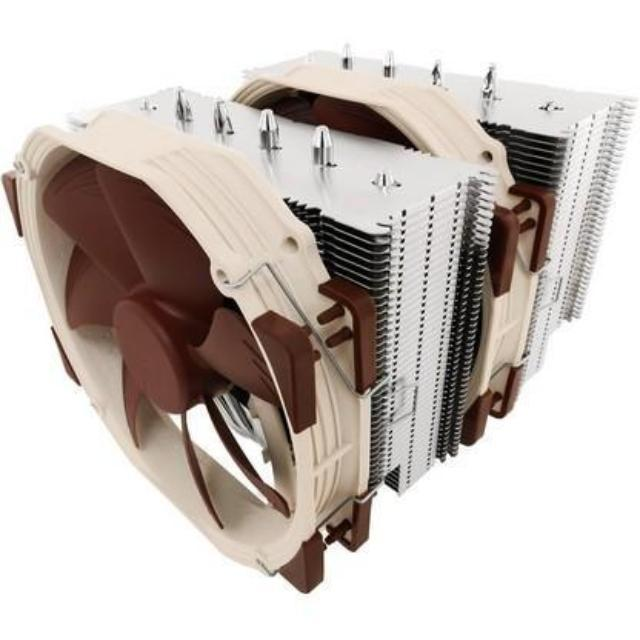CPU_Fan: (1, 39, 638, 584)
